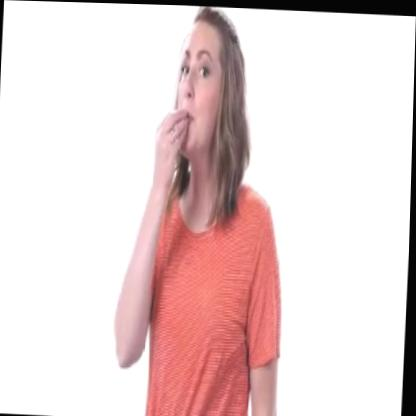Food: (149, 4, 251, 215)
